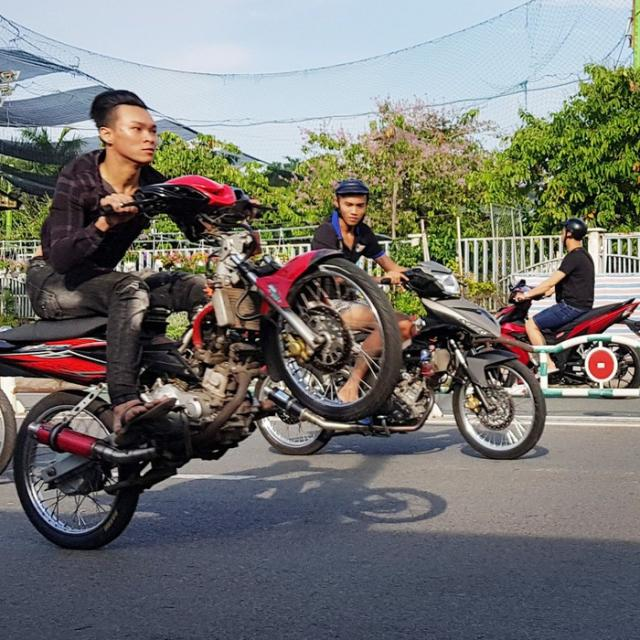no_helmet: (82, 81, 164, 173)
